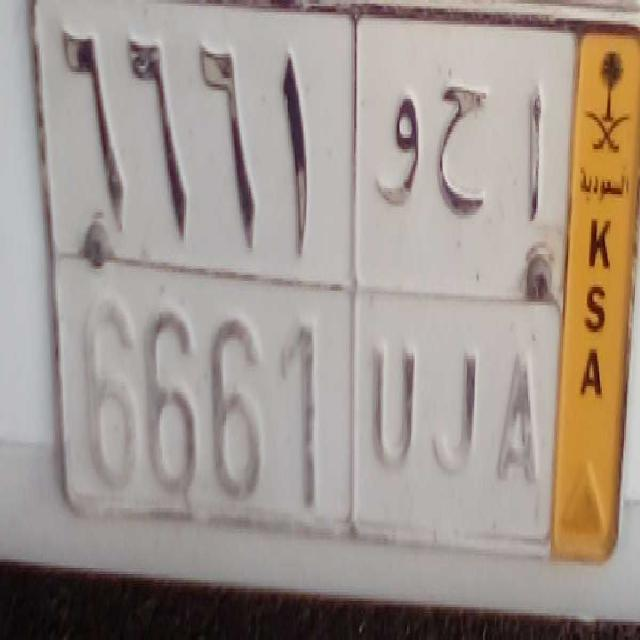license_plate: (53, 250, 559, 546)
